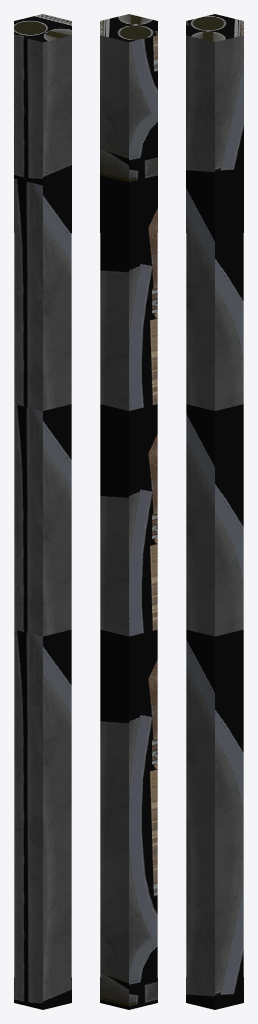
The model's file is Melee_Prop_jgb_lod01_LOD_(000577).glb.
3 views of the same model, side by side, from view 1: azimuth 30°, elevation 25°; view 2: azimuth 150°, elevation 25°; view 3: azimuth 330°, elevation 25° (orthographic).
Parts seen in each view (by area): view 1: jgb_lod01; view 2: jgb_lod01; view 3: jgb_lod01.
Boxes of the visible parts, bbox=[...] form: jgb_lod01: bbox=[14, 14, 71, 1009]; jgb_lod01: bbox=[100, 14, 157, 1009]; jgb_lod01: bbox=[186, 14, 243, 1009].
Bounding box in the file's own units: 0.0858 × 1.37 × 0.0743.
1 material, 1 textured.
